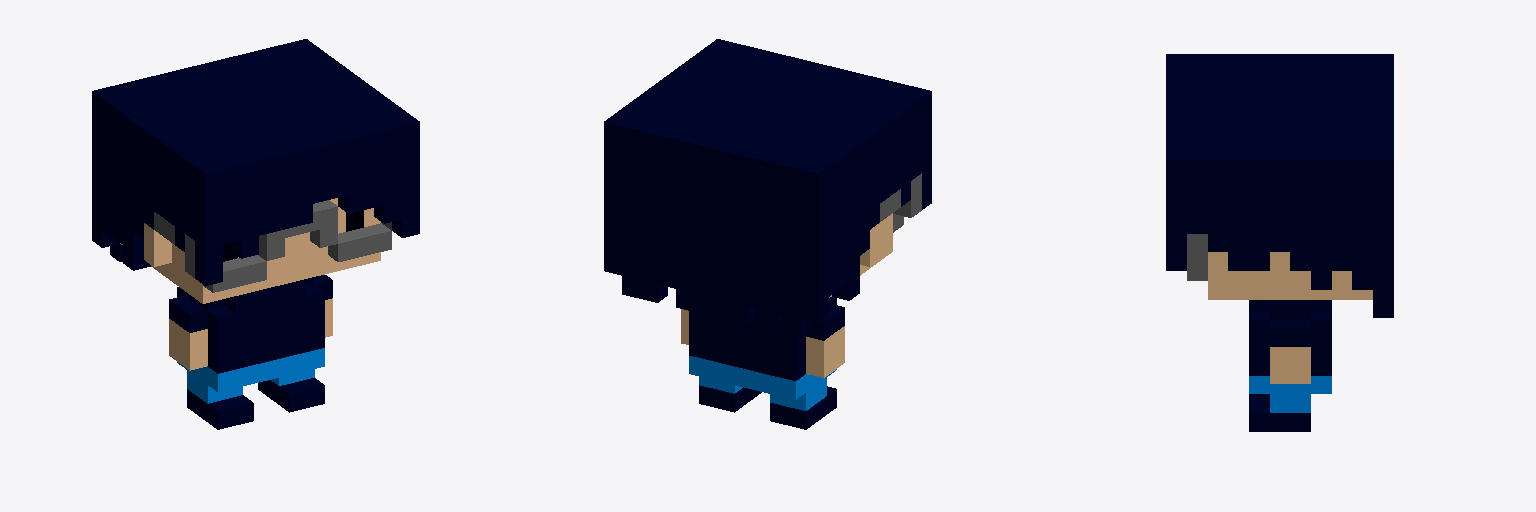
3 views of the same model, side by side, from view 1: azimuth 30°, elevation 25°; view 2: azimuth 150°, elevation 25°; view 3: azimuth 270°, elevation 25° (orthographic).
Bounding box in the file's own units: 12 × 16 × 11.
1 materials, 1 textured.